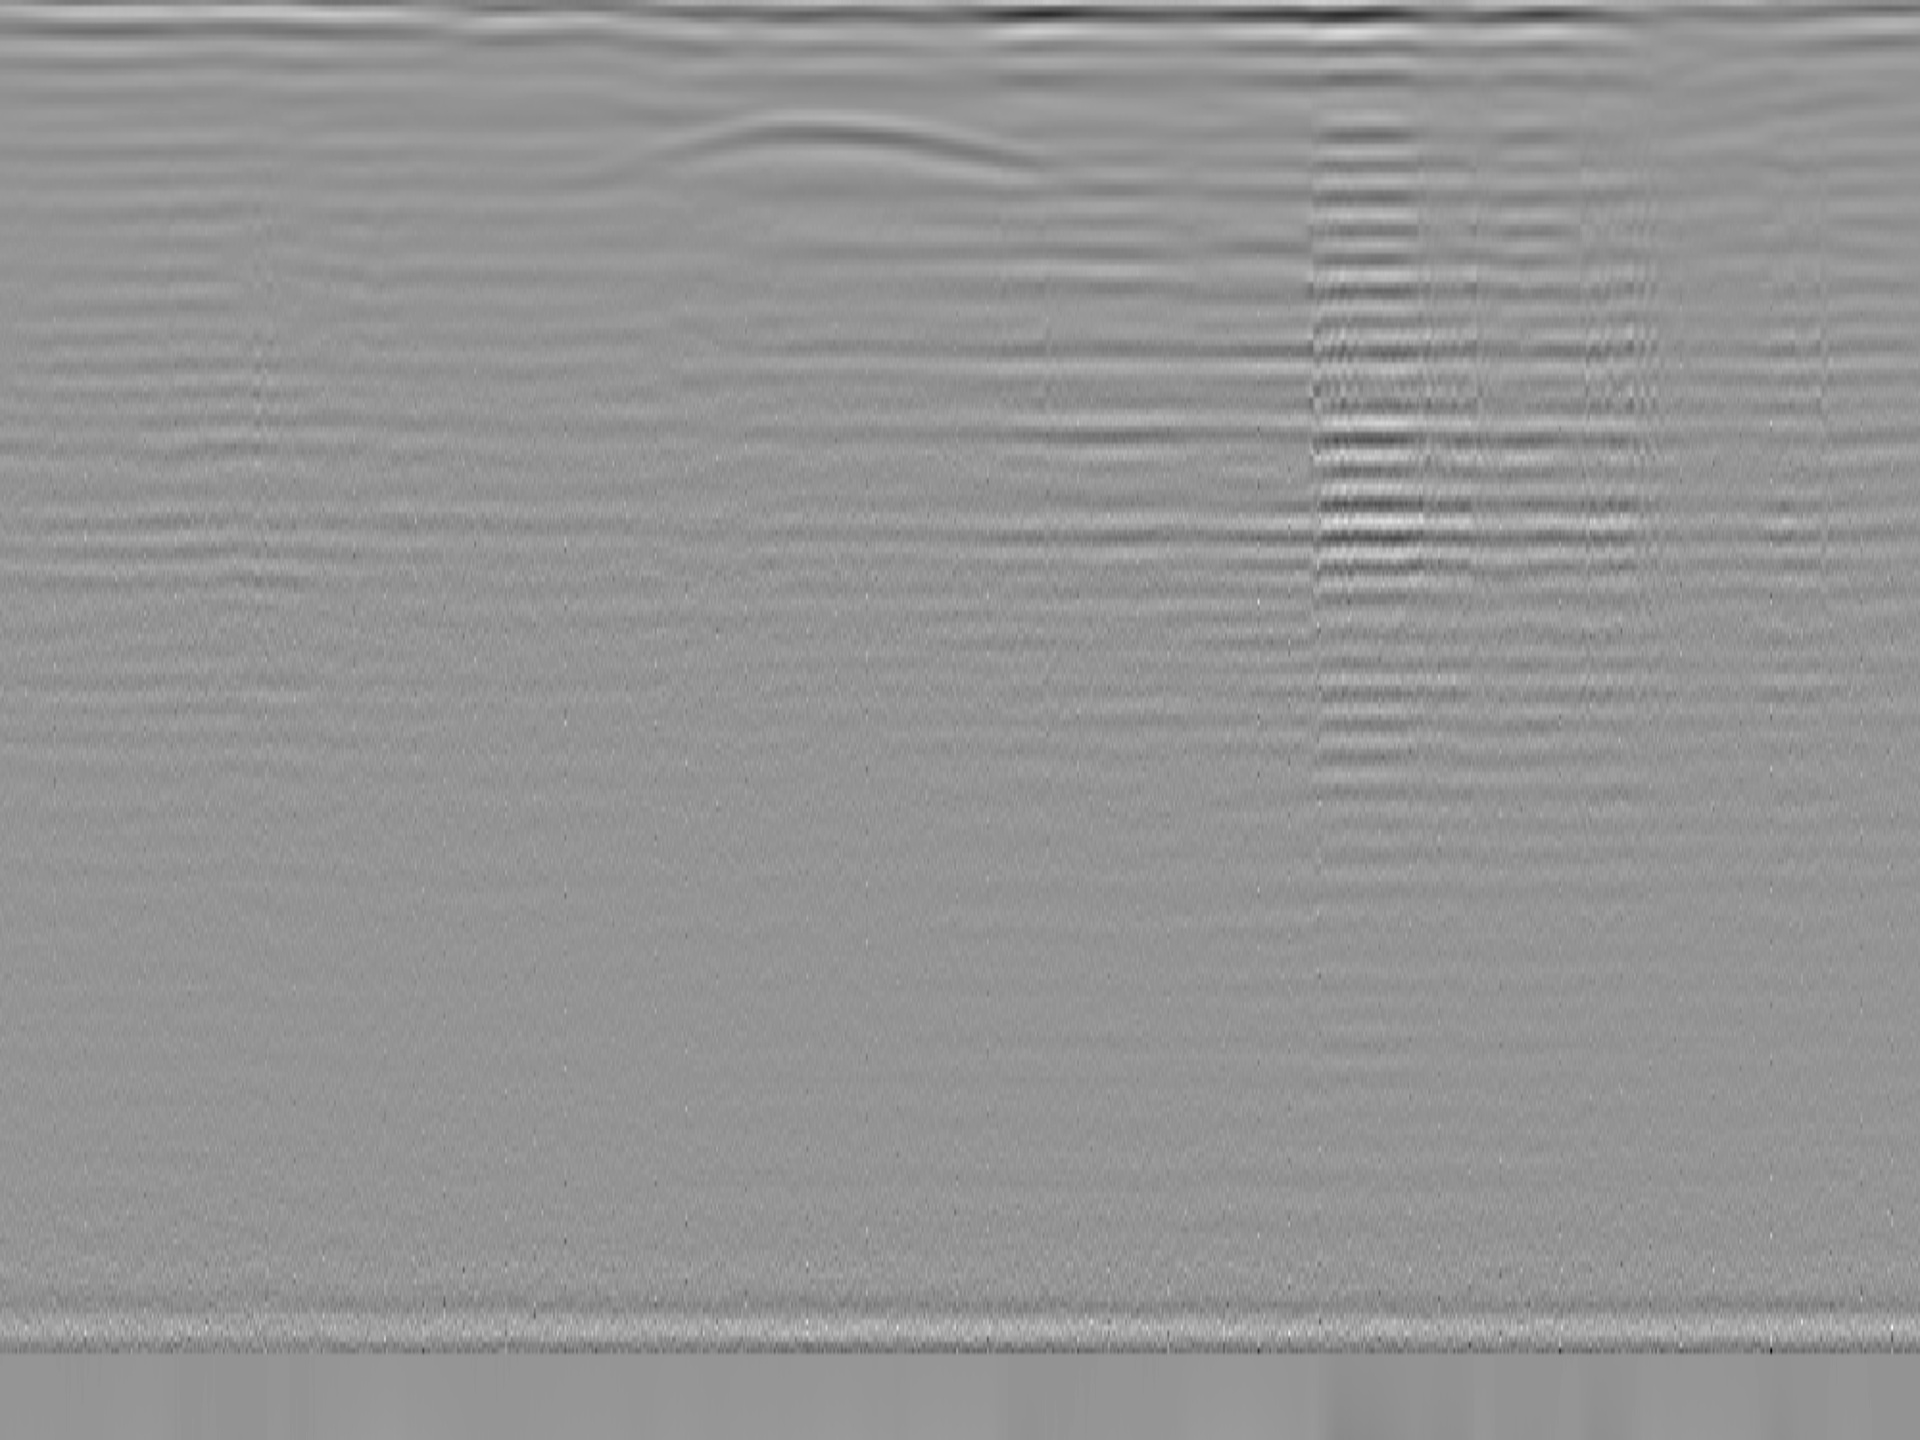Tunnel: (571, 106, 1076, 194)
